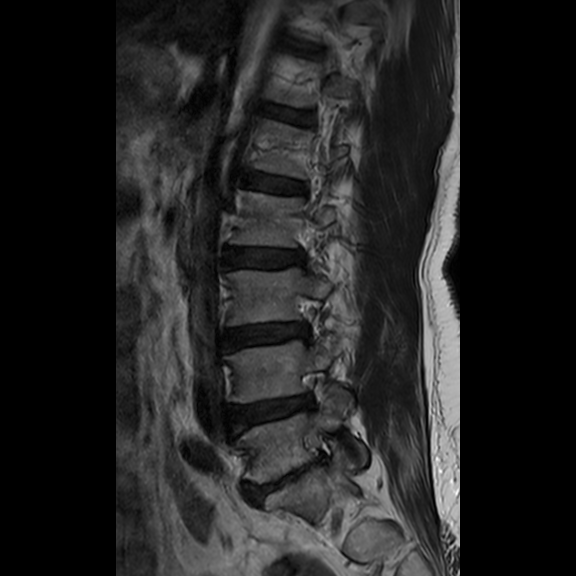RFS3: (293, 428, 343, 480), (290, 364, 334, 421)
